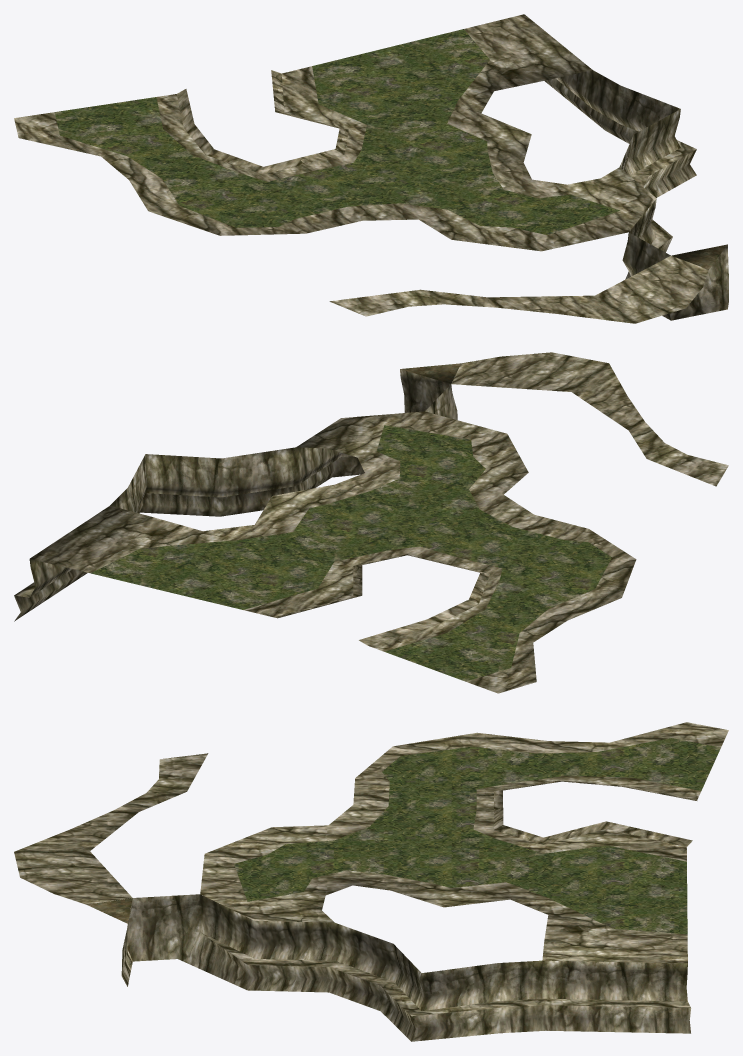
File: CB_NEWPLAYSURFACE_CB_PLAYSURFACE20.fbx
3 renders of one model, top to bottom at view 1: azimuth 30°, elevation 25°; view 2: azimuth 150°, elevation 25°; view 3: azimuth 270°, elevation 25°, orthographic. The views are drawn at different scales.
Parts seen in each view (by area): view 1: CB_NEWPLAYSURFACE_CB_PLAYSURFACE20; view 2: CB_NEWPLAYSURFACE_CB_PLAYSURFACE20; view 3: CB_NEWPLAYSURFACE_CB_PLAYSURFACE20.
Part boxes in pixels (<box>): CB_NEWPLAYSURFACE_CB_PLAYSURFACE20: <box>14,14,728,323</box>; CB_NEWPLAYSURFACE_CB_PLAYSURFACE20: <box>14,352,728,693</box>; CB_NEWPLAYSURFACE_CB_PLAYSURFACE20: <box>14,722,728,1041</box>.
Size of the model in its own units: 345665 by 42181 by 407795.
4 materials, 4 textured.
